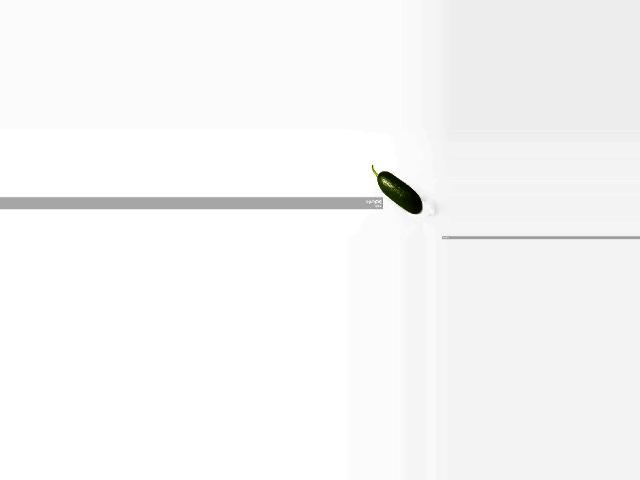cucumber: (370, 165, 421, 214)
